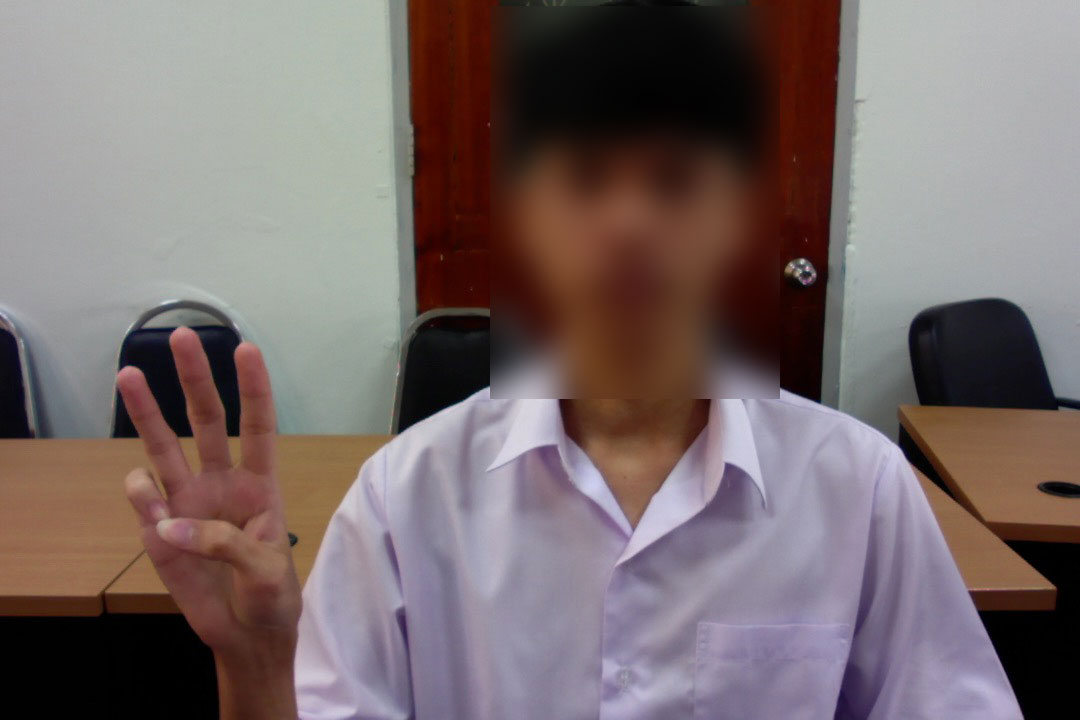wor: (102, 314, 324, 666)
